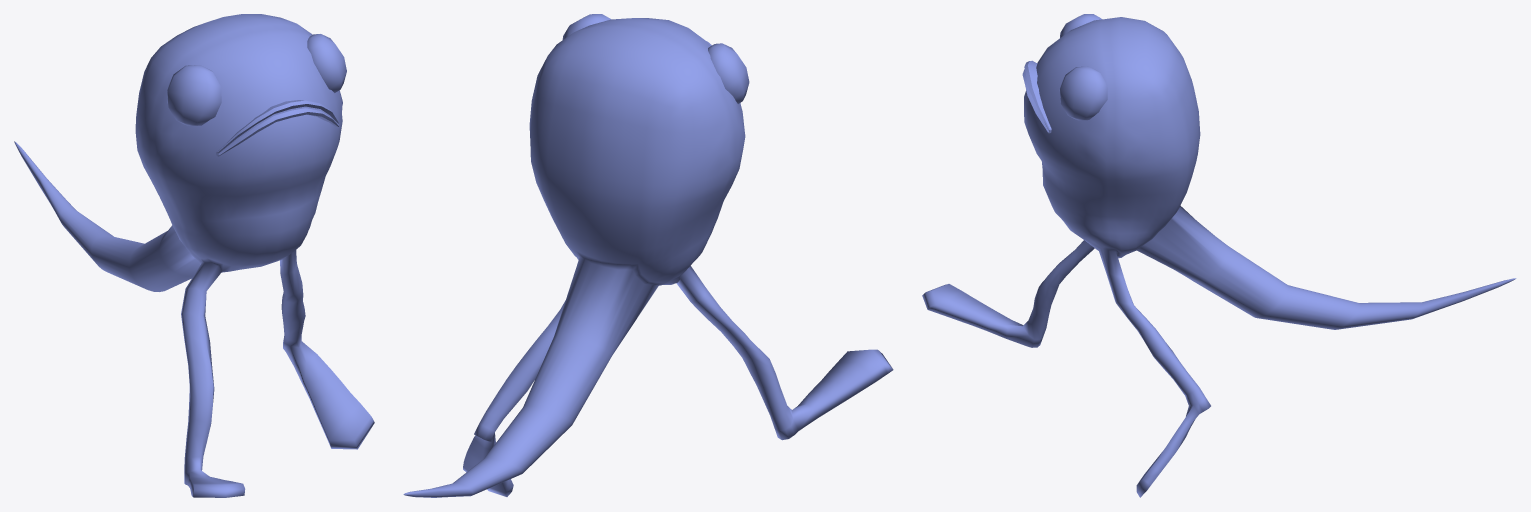
Rendered from SM_croacroa_baby.fbx.
3 views of the same model, side by side, from view 1: azimuth 30°, elevation 25°; view 2: azimuth 150°, elevation 25°; view 3: azimuth 270°, elevation 25° (orthographic). The views are drawn at different scales.
Parts seen in each view (by area): view 1: Cube.016; view 2: Cube.016; view 3: Cube.016.
Part boxes in pixels (<box>): Cube.016: <box>14,14,374,497</box>; Cube.016: <box>403,14,893,497</box>; Cube.016: <box>922,14,1516,497</box>.
Size of the model in its own units: 52.25 by 78.2 by 102.
